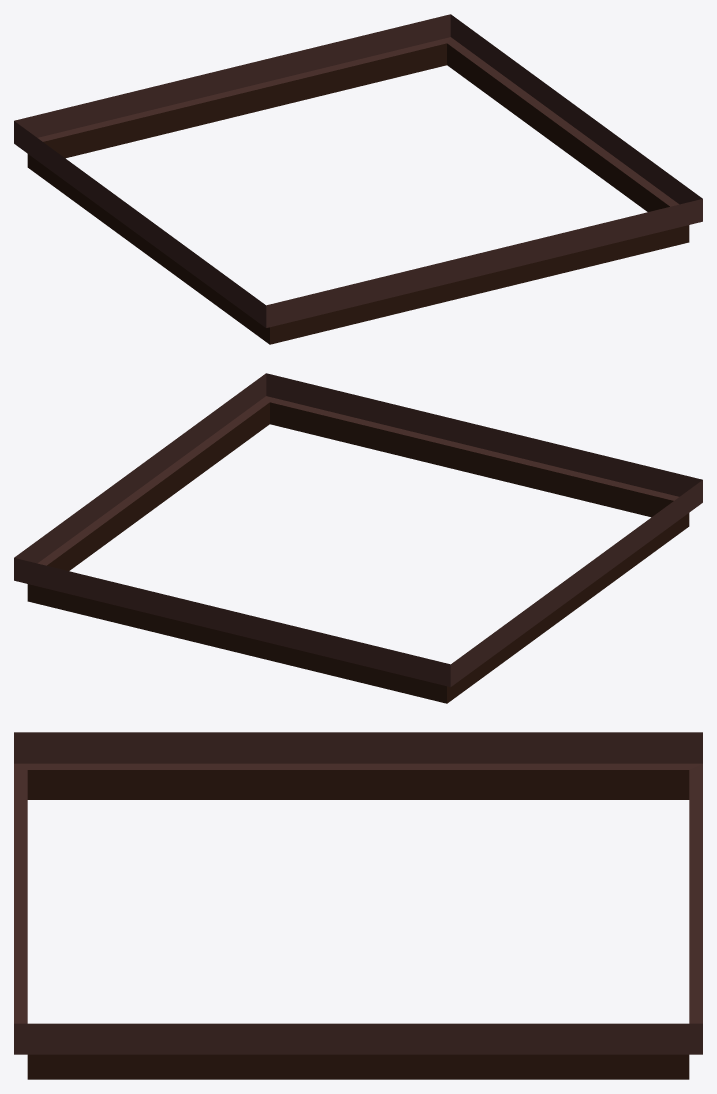
File: TIle_Base.fbx
3 views of the same model, one above another, from view 1: azimuth 30°, elevation 25°; view 2: azimuth 150°, elevation 25°; view 3: azimuth 270°, elevation 25° (orthographic). The views are drawn at different scales.
Visible parts, largest first — view 1: Tile_Base; view 2: Tile_Base; view 3: Tile_Base.
Boxes of the visible parts, box(x1,y1,x2,y2) form: Tile_Base: box(14, 14, 702, 344); Tile_Base: box(14, 373, 702, 703); Tile_Base: box(14, 732, 702, 1079).
Size of the model in its own units: 100 by 9.9 by 100.
